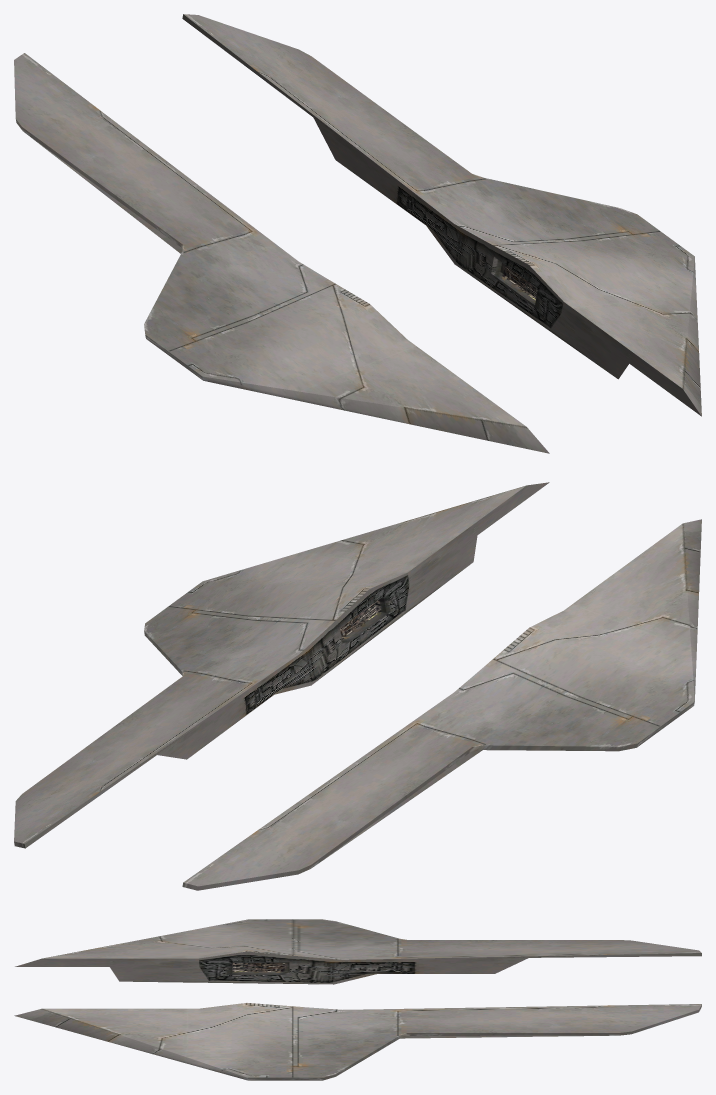
Rendered from hutt_fighter_light_struct_s02_l0.fbx.
3 views of the same model, one above another, from view 1: azimuth 30°, elevation 25°; view 2: azimuth 150°, elevation 25°; view 3: azimuth 270°, elevation 25° (orthographic). The views are drawn at different scales.
Visible parts, largest first — view 1: mesh_node; view 2: mesh_node; view 3: mesh_node.
Boxes of the visible parts, x1,y1,x2,y2 form: mesh_node: (14,14,701,453); mesh_node: (14,482,701,890); mesh_node: (14,919,701,1080).
Size of the model in its own units: 12.1 by 1.25 by 22.22.
1 material, 1 textured.
